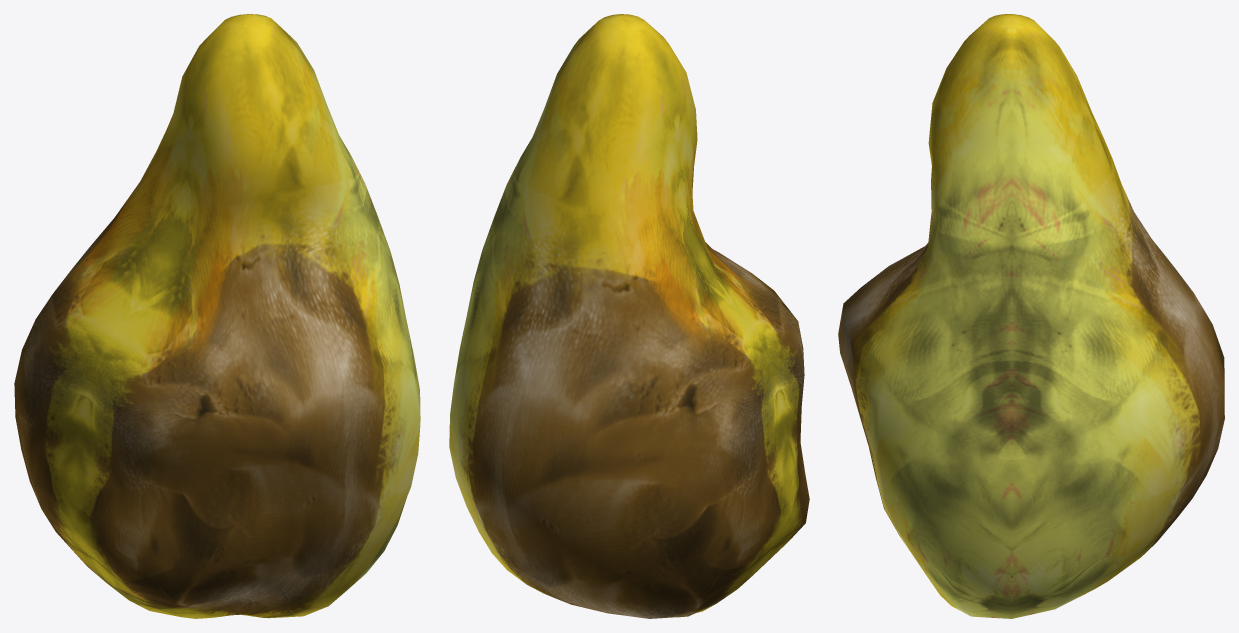
The model's file is mPoireP1Outiline.FBX.
3 views of the same model, side by side, from view 1: azimuth 30°, elevation 25°; view 2: azimuth 150°, elevation 25°; view 3: azimuth 270°, elevation 25° (orthographic). The views are drawn at different scales.
Parts seen in each view (by area): view 1: Poire_Negatif_02_OUTLINE; view 2: Poire_Negatif_02_OUTLINE; view 3: Poire_Negatif_02_OUTLINE.
Part boxes in pixels (x1,y1,x2,y2): Poire_Negatif_02_OUTLINE: (14, 14, 420, 618); Poire_Negatif_02_OUTLINE: (449, 14, 809, 618); Poire_Negatif_02_OUTLINE: (838, 14, 1224, 618).
Size of the model in its own units: 1.37 by 2.38 by 1.43.
